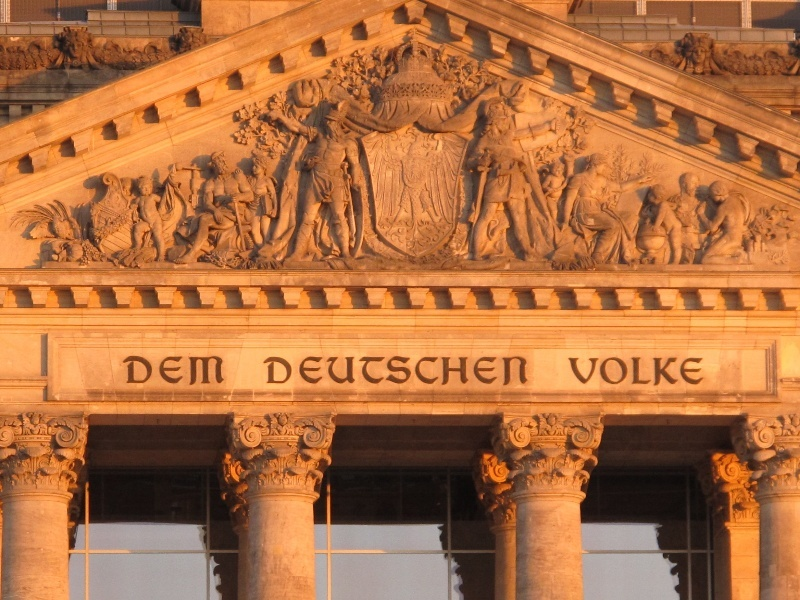text: (209, 355, 225, 389), (129, 355, 144, 389), (145, 355, 160, 389), (161, 355, 176, 389), (177, 355, 192, 389), (193, 355, 208, 389), (273, 357, 288, 386), (289, 357, 304, 386), (305, 357, 320, 386), (321, 357, 336, 386), (337, 357, 352, 386), (353, 357, 368, 386), (369, 357, 384, 386), (385, 357, 400, 386), (401, 357, 416, 386), (417, 357, 432, 386), (433, 357, 448, 386), (449, 357, 464, 386), (465, 357, 480, 386), (481, 357, 496, 386), (497, 357, 512, 386), (513, 357, 528, 386), (577, 358, 592, 386), (593, 358, 608, 386), (609, 358, 624, 386), (625, 358, 640, 386), (641, 358, 656, 386), (657, 358, 672, 386), (673, 358, 688, 386), (689, 358, 703, 386), (263, 357, 272, 386), (568, 358, 576, 386), (124, 355, 128, 389)
